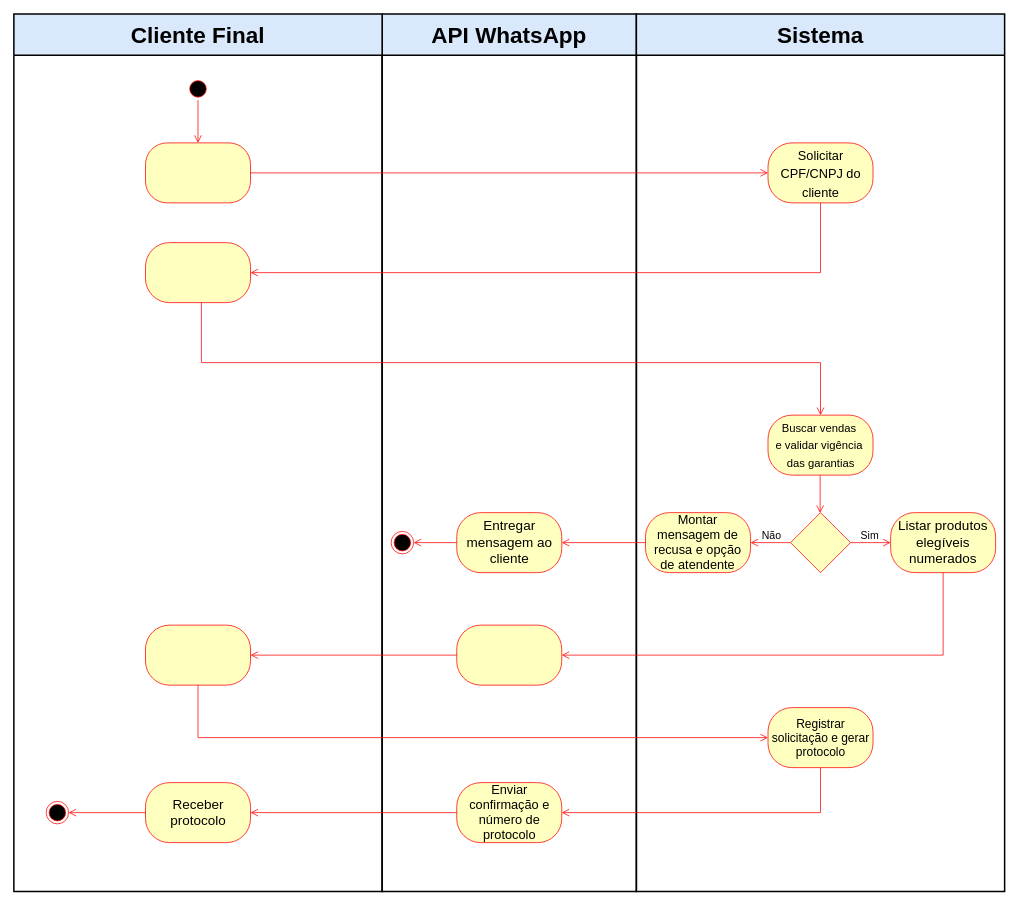
Image size: 1018x905. Some labels were removed from this diagram. Here are the shapes that lost their labels. From the top down, the box of each, then its label:
(145, 142, 250, 203): Selecionar opção de Acionar Garantia no chat
(145, 242, 250, 303): Informar CPF/CNPJ
(790, 512, 850, 573): Possui garantia vigente?
(145, 624, 250, 685): Selecionar produto e enviar descrição do defeito
(456, 624, 562, 685): Exibir lista de produtos no chat
